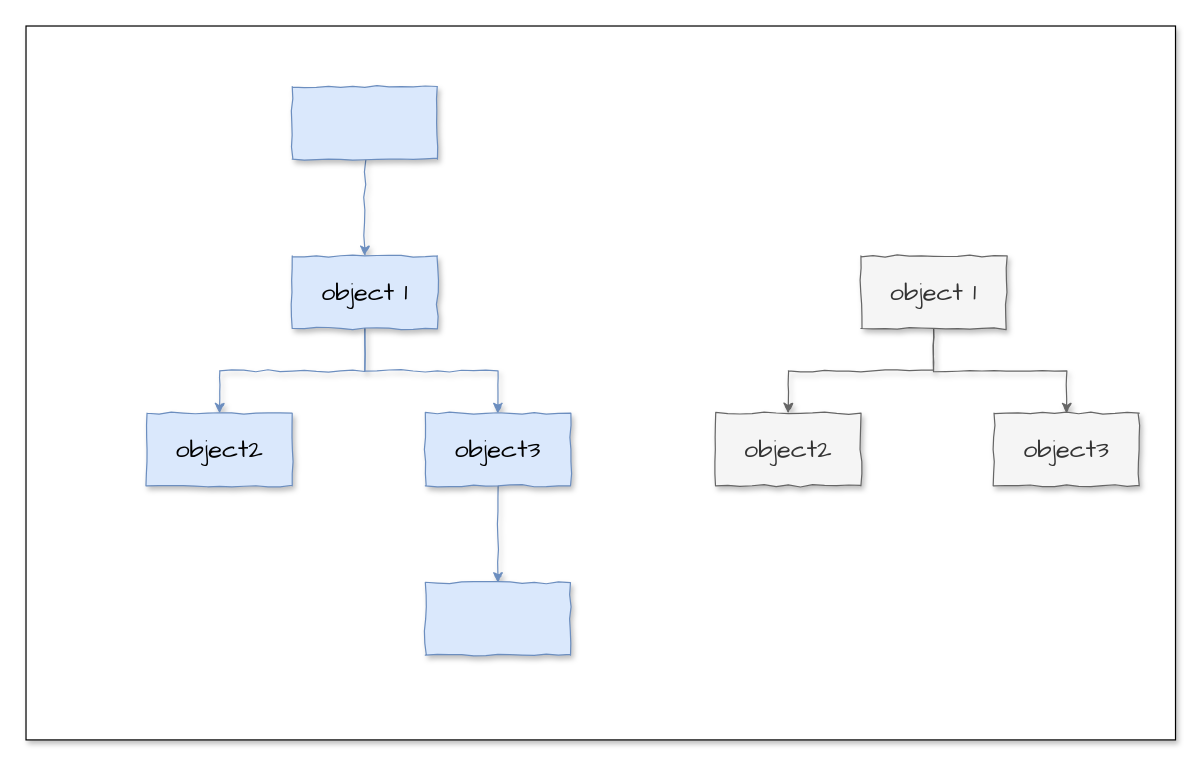
This 1204x770 diagram has some shape labels left out. The centre of each missing label's shape, as x and y in pixels:
"GC Roots" goes at (365,124).
"object4" goes at (498,620).
